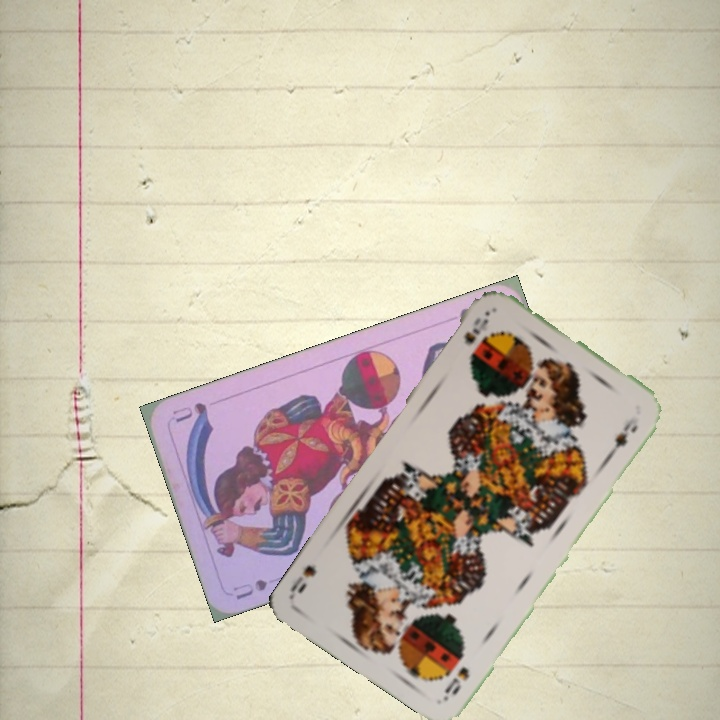SO: (440, 662, 472, 698), (460, 313, 491, 348)
SU: (229, 575, 270, 602)
